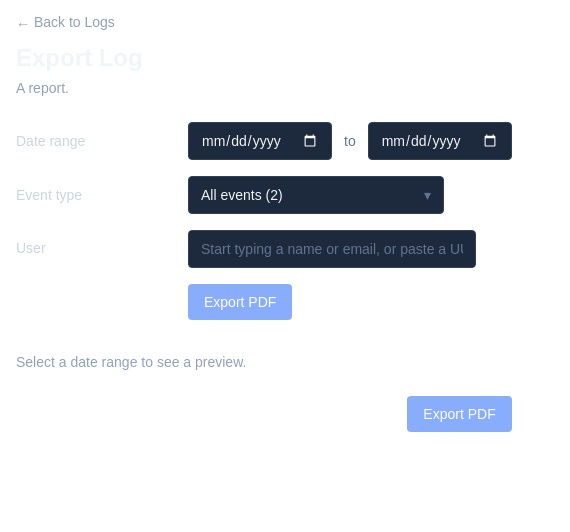
LogExportPage › says when the preview was cut short
In the 1st date field: (260, 141) [188, 122, 332, 160], type "2026-10-01"
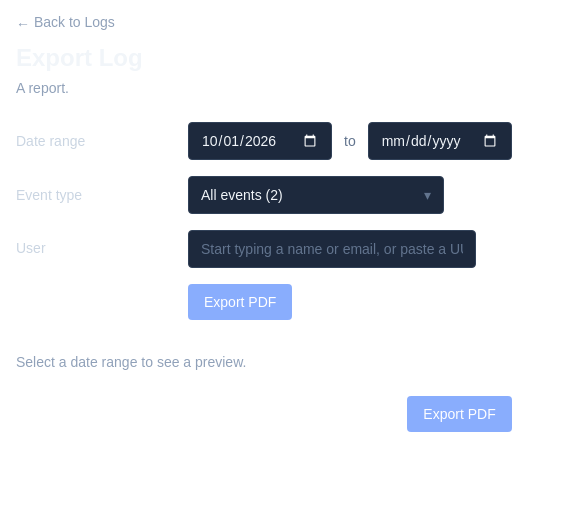
In the 2nd date field: (440, 141) [368, 122, 512, 160], type "2026-10-07"
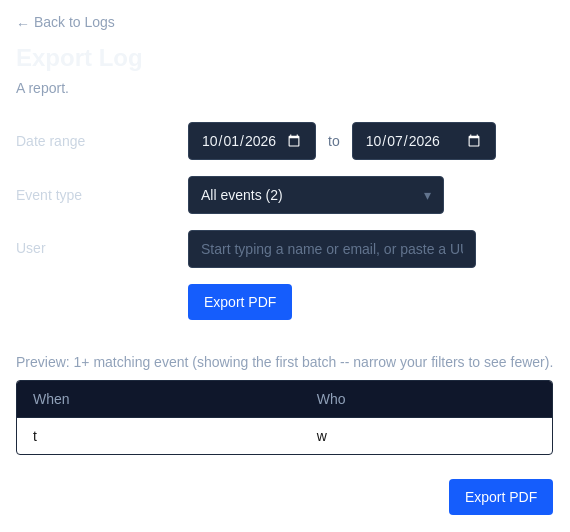
Check: the text "Preview: 1+ matching event" is shown, box [16, 354, 553, 370]
